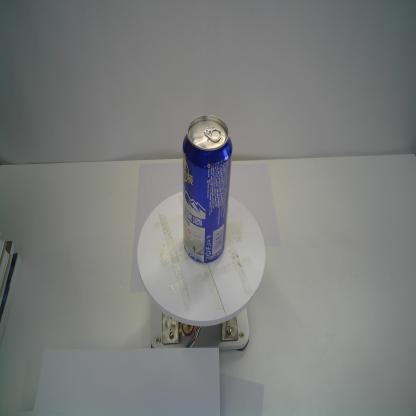Alcohol: (181, 115, 233, 265)
